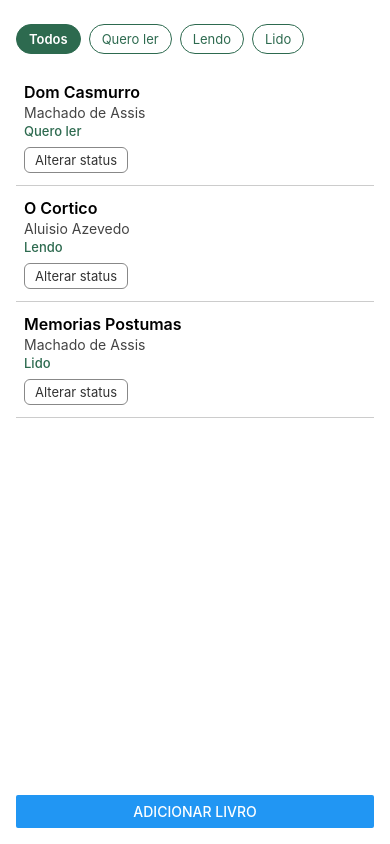
Test: EstanteScreen › filtra por status selecionando o chip
Check: the text "Dom Casmurro" is shown, box [24,82,140,102]
Click the button with aria-label "Filtro Lendo" at [212, 39], box [180,24,244,54]
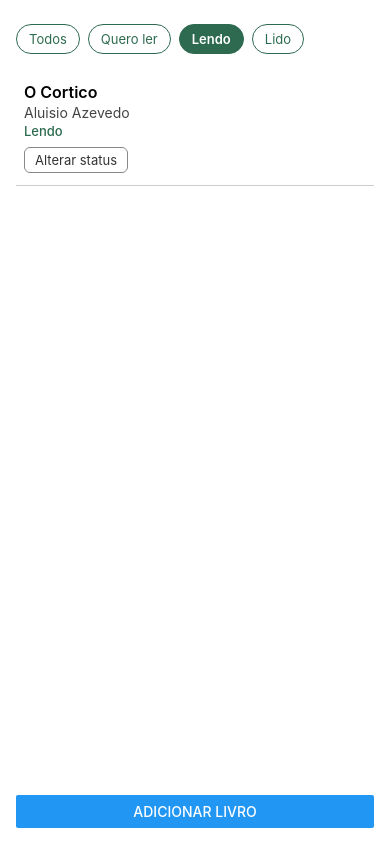
Check: the text "O Cortico" is shown, box [24,82,97,102]
Check: the text "Dom Casmurro" is gone
Check: the text "Memorias Postumas" is gone
